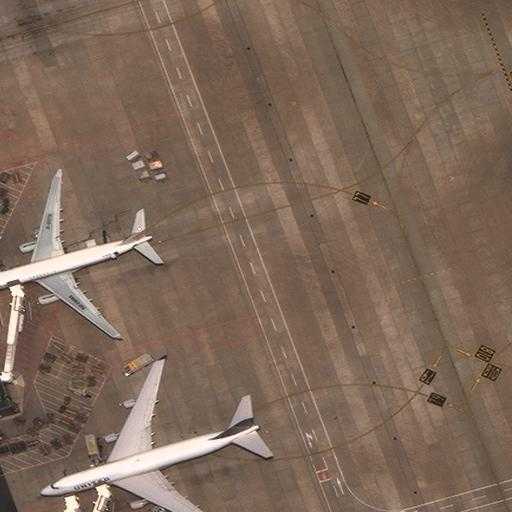Large Civil Transport: (38, 358, 259, 511), (0, 174, 155, 337)
